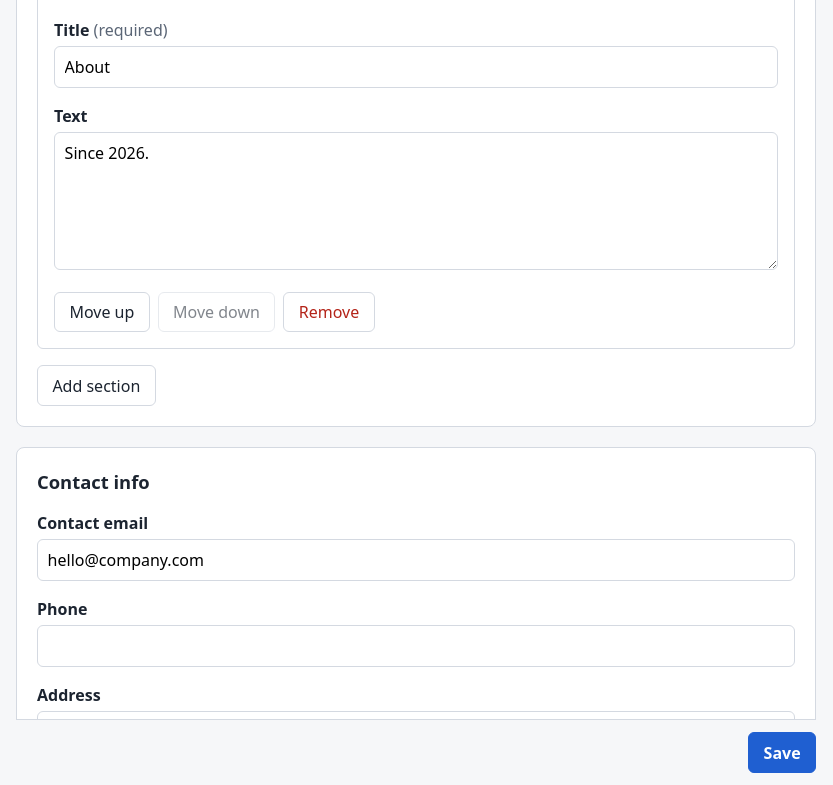
Test: Sections › add, reorder and remove sections → PUT sends the new list in order
(page scrolled)
Click the button "Add section" at (96, 386), box [37, 365, 156, 406]
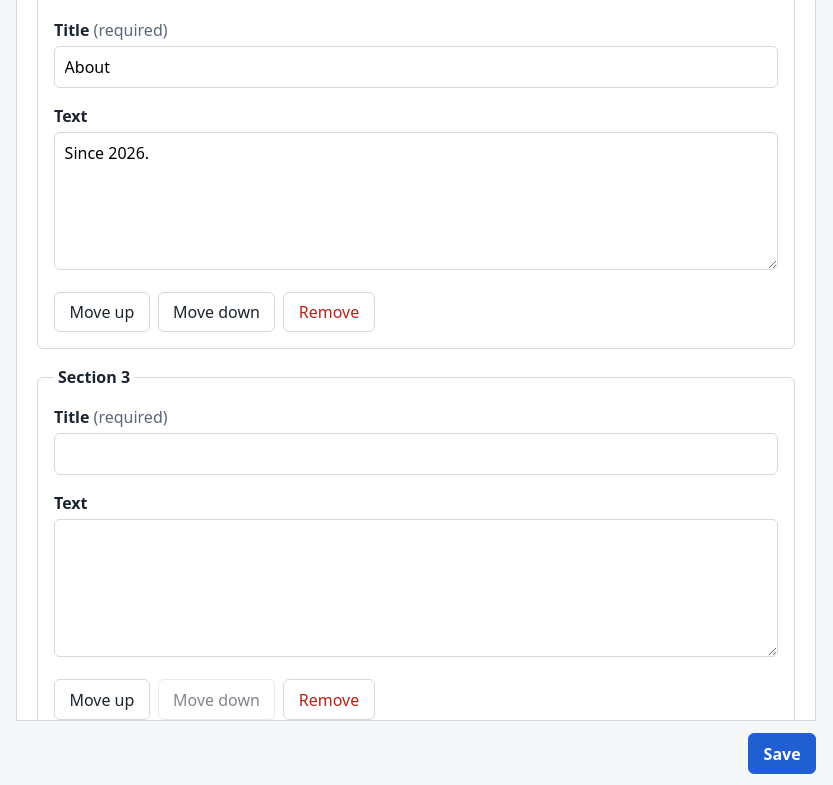
Type "Contact" into the 2nd field labelled "Title (required)" at (416, 454), box [54, 433, 778, 475]
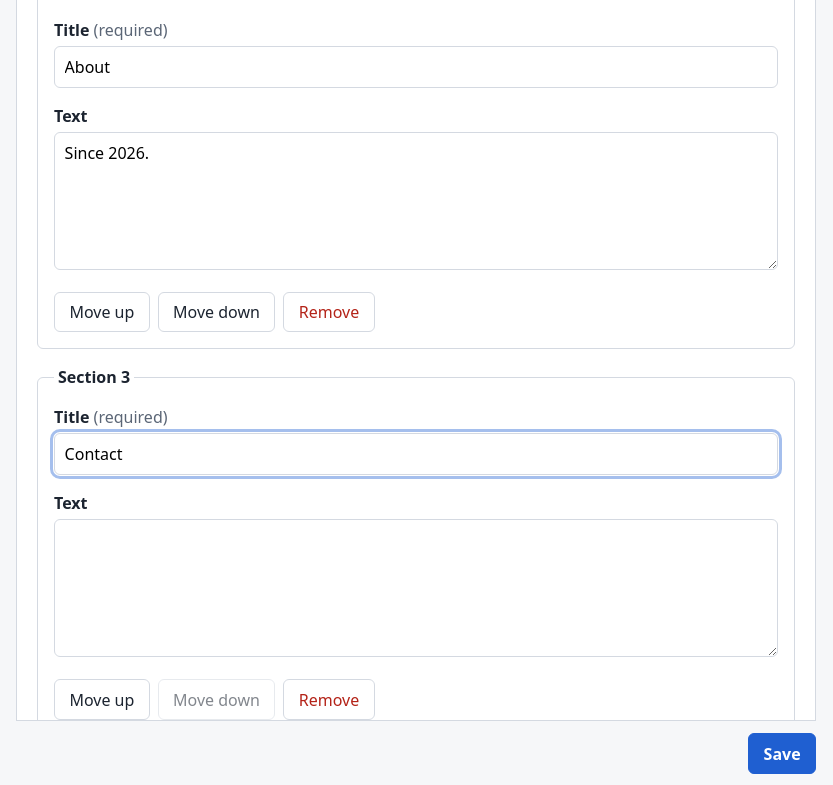
Type "Write to us." into the 2nd text box labelled "Text" at (416, 588), box [54, 519, 778, 657]
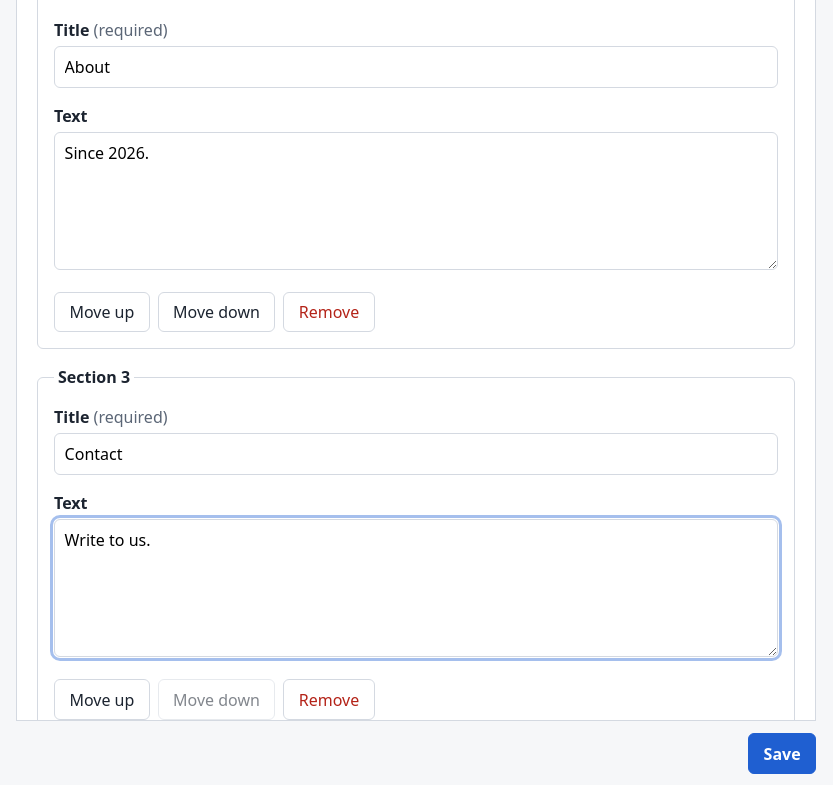
Click the button with aria-label "Move section 3 up" at (102, 700), box [54, 679, 150, 720]
(page scrolled)
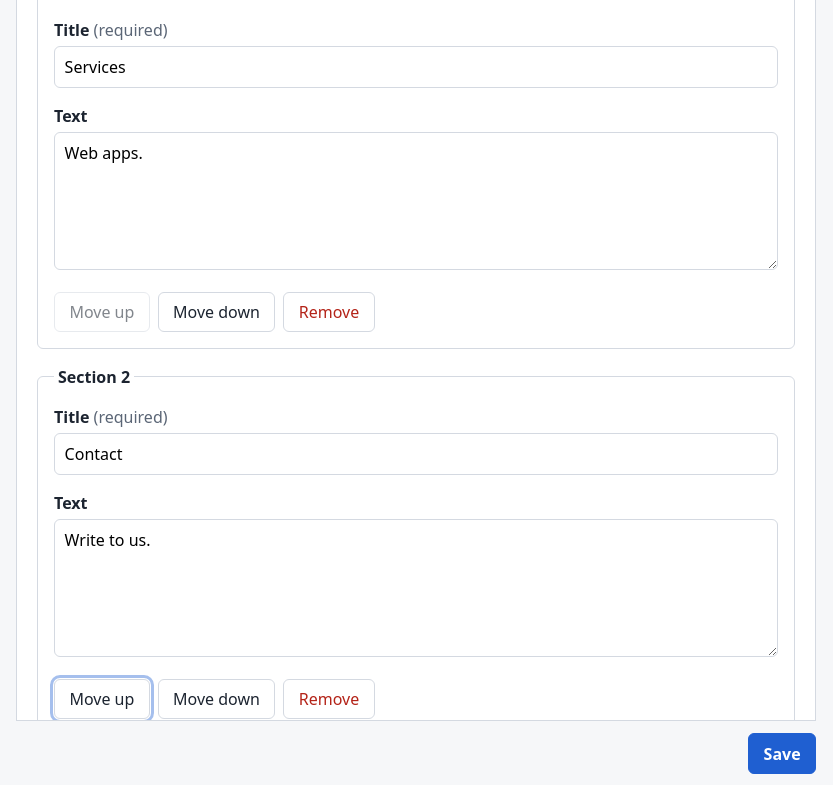
Click the button with aria-label "Remove section 1" at (329, 312), box [283, 292, 374, 332]
(page scrolled)
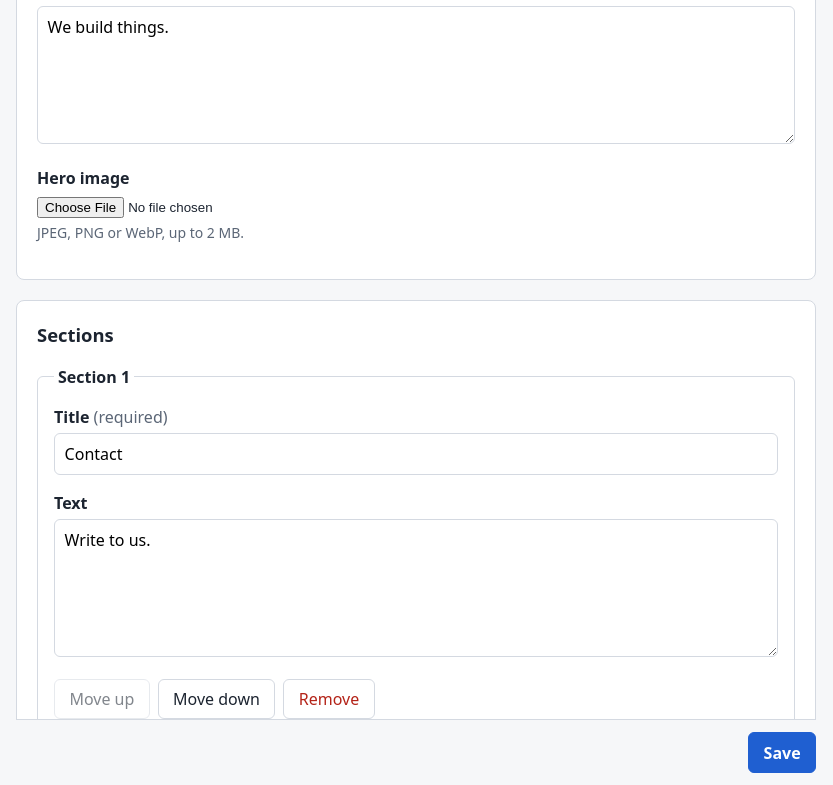
Click the button "Save" at (782, 753), box [748, 733, 816, 773]
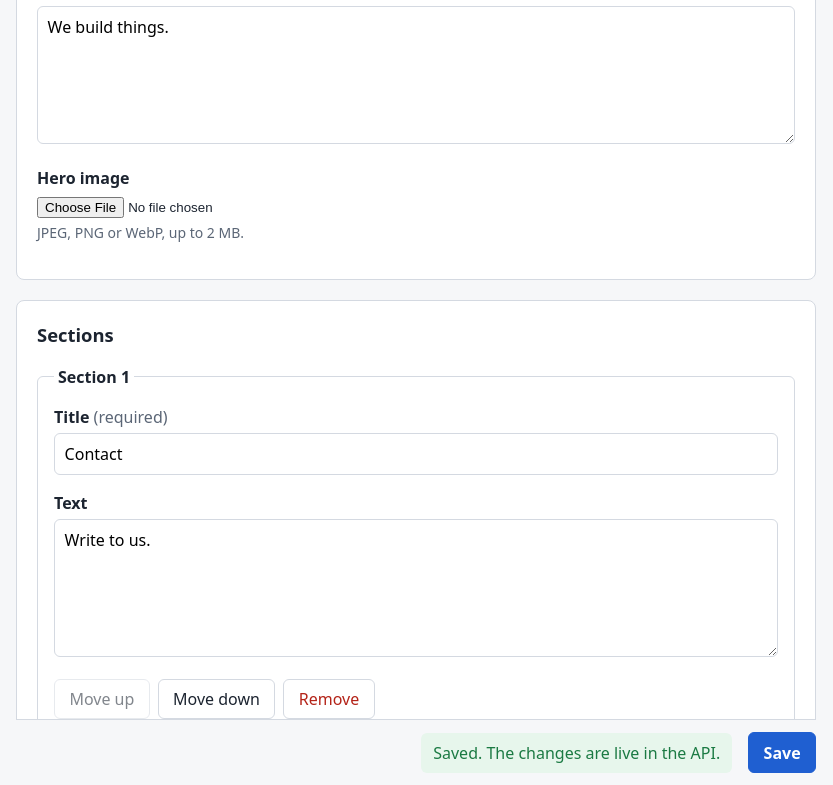
Check: the text "Saved. The changes are live in the API." is shown, box [421, 733, 732, 773]
